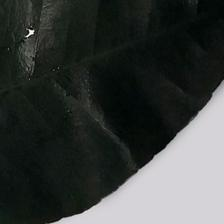healthy: (2, 3, 190, 224)
